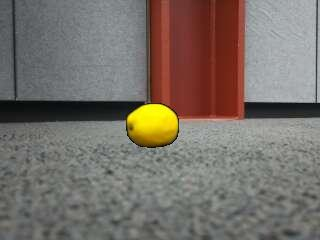lemon: (127, 105, 179, 147)
